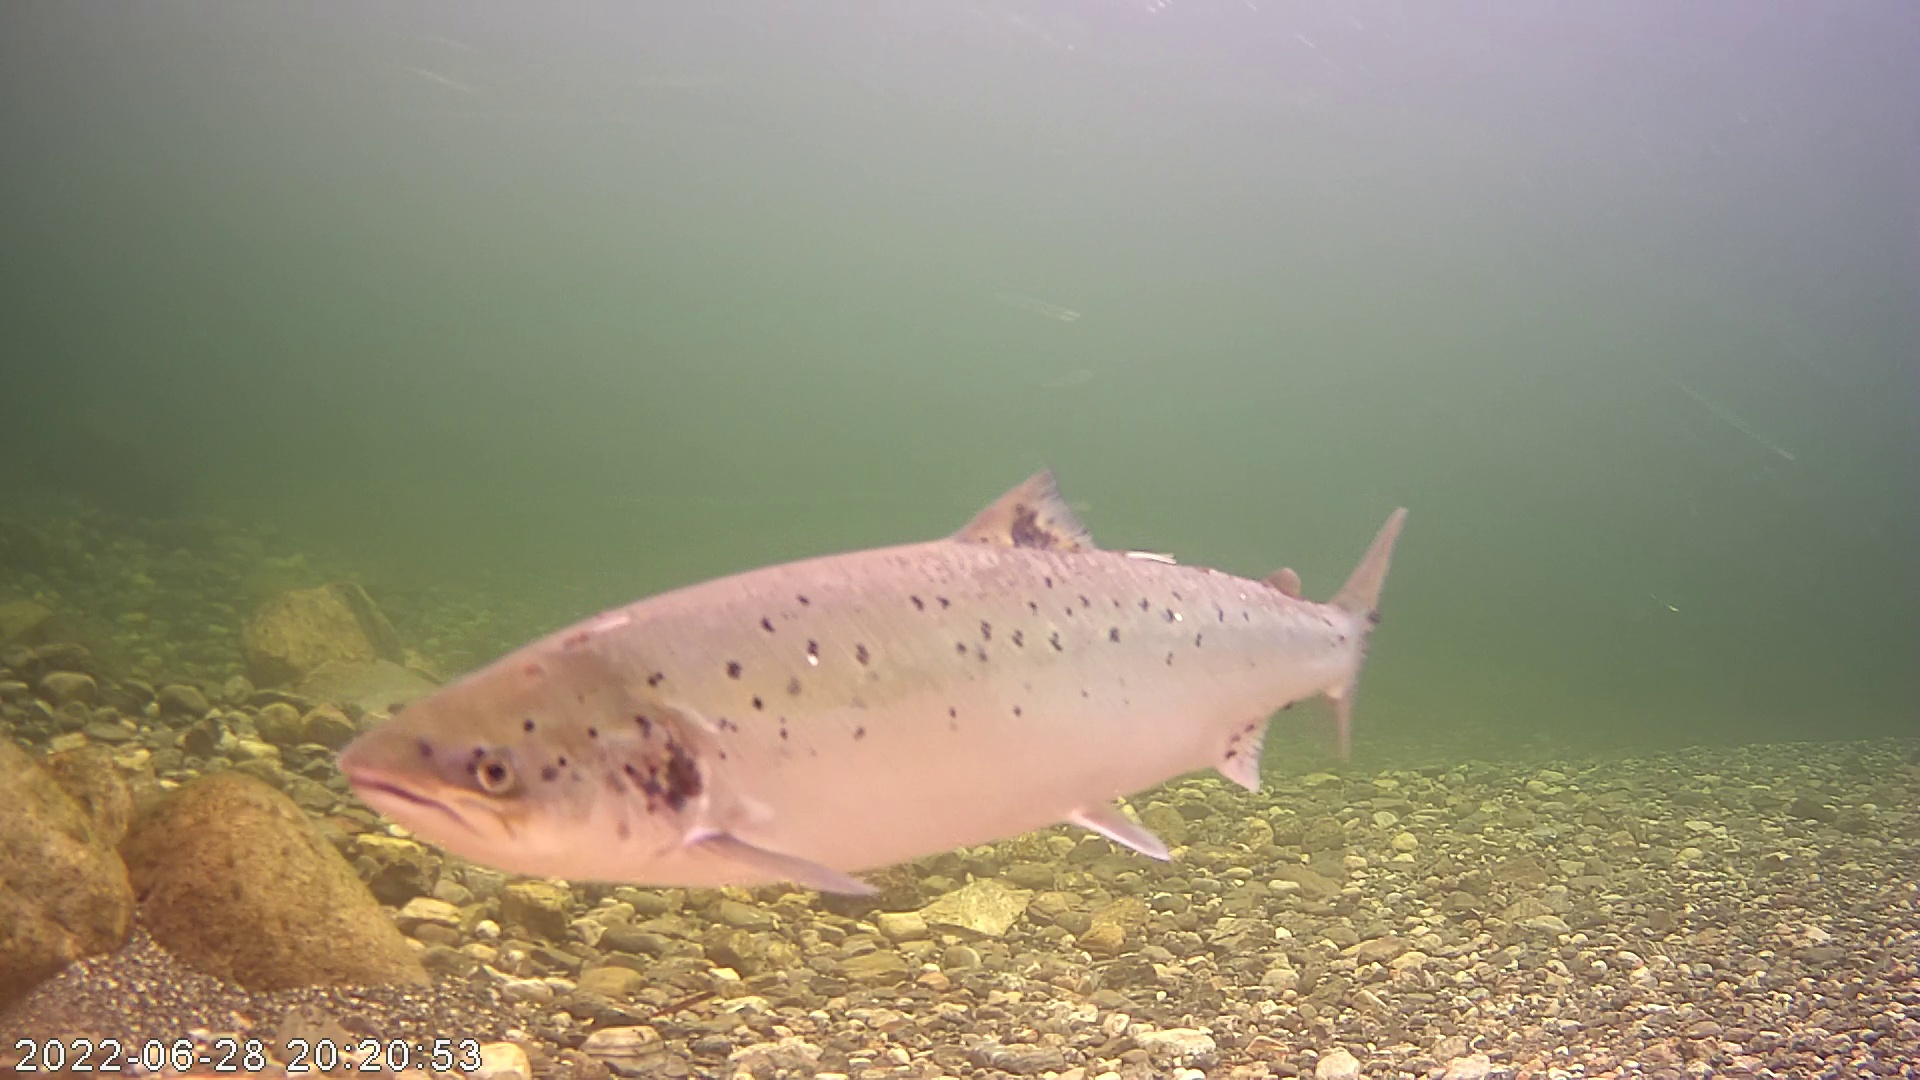salmon: (340, 411, 1408, 911)
